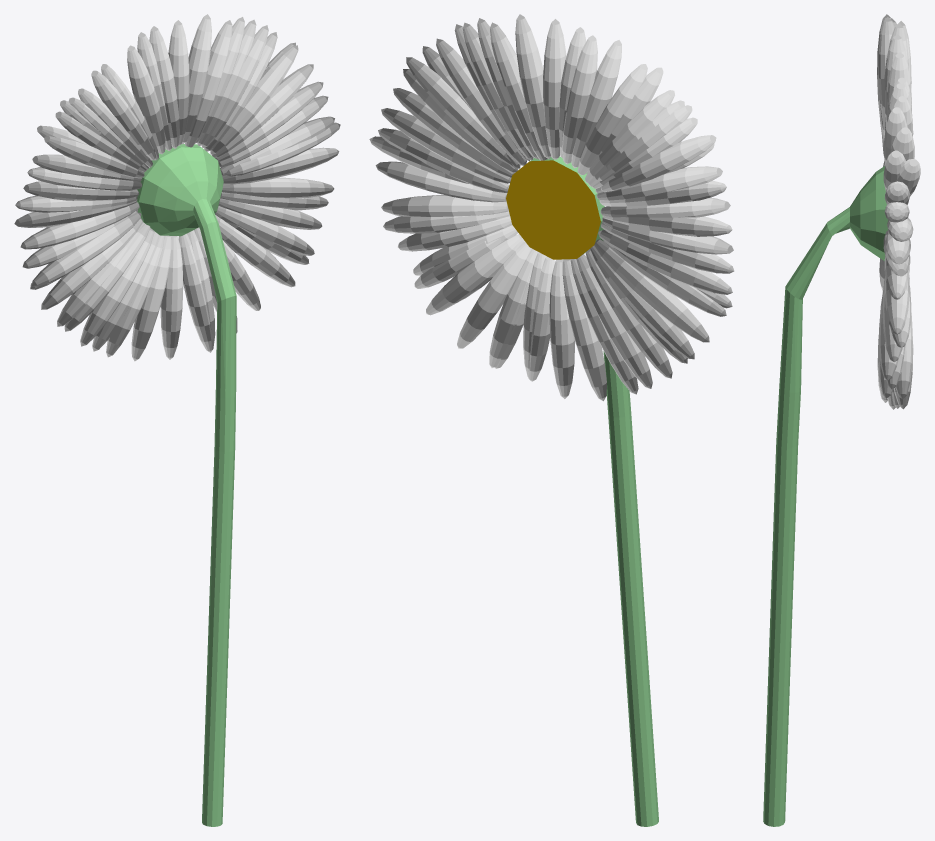
File: Dandelion.fbx
The picture shows the model from 3 angles, left to right: view 1: azimuth 30°, elevation 25°; view 2: azimuth 150°, elevation 25°; view 3: azimuth 270°, elevation 25°; orthographic projection. The views are drawn at different scales.
Visible parts, largest first — view 1: group87009174, group1492424143, group603342654, group1881477513, group718239893, group1734027403, group2064019557, group335765809, group128159101, group2060080001, group1807135897, group1741196456 (+37 smaller); view 2: group87009174, group1741196456, group2064019557, group718239893, group501607210, group1492424143, group1375157183, group420555038, group249798635, group1475190322, group1570968163, group814486344 (+39 smaller); view 3: group87009174, group1850751425, group1734027403, group249798635, group359668603, group2064019557, group325663288, group1811837873, group501607210, group1475190322, group1092918683, group603342654 (+11 smaller).
Part boxes in pixels (x1=…): group87009174: x1=137, y1=144, x2=236, y2=826; group1492424143: x1=160, y1=236, x2=183, y2=359; group603342654: x1=210, y1=45, x2=298, y2=154; group1881477513: x1=31, y1=212, x2=141, y2=286; group718239893: x1=131, y1=235, x2=171, y2=361; group1734027403: x1=127, y1=45, x2=165, y2=154; group2064019557: x1=182, y1=14, x2=211, y2=144; group335765809: x1=178, y1=233, x2=213, y2=352; group128159101: x1=20, y1=202, x2=139, y2=249; group2060080001: x1=80, y1=228, x2=154, y2=346; group1807135897: x1=185, y1=20, x2=232, y2=147; group1741196456: x1=41, y1=218, x2=142, y2=309; group87009174: x1=506, y1=156, x2=658, y2=826; group1741196456: x1=594, y1=239, x2=709, y2=342; group2064019557: x1=515, y1=14, x2=550, y2=159; group718239893: x1=562, y1=259, x2=606, y2=401; group501607210: x1=406, y1=57, x2=512, y2=166; group1492424143: x1=549, y1=259, x2=574, y2=398; group1375157183: x1=576, y1=254, x2=652, y2=388; group420555038: x1=457, y1=242, x2=531, y2=348; group249798635: x1=426, y1=234, x2=521, y2=315; group1475190322: x1=543, y1=19, x2=566, y2=159; group1570968163: x1=436, y1=38, x2=526, y2=165; group814486344: x1=562, y1=35, x2=597, y2=164; group87009174: x1=763, y1=166, x2=888, y2=826; group1850751425: x1=884, y1=275, x2=909, y2=334; group1734027403: x1=879, y1=17, x2=894, y2=125; group249798635: x1=895, y1=313, x2=912, y2=399; group359668603: x1=884, y1=107, x2=907, y2=165; group2064019557: x1=887, y1=52, x2=911, y2=122; group325663288: x1=879, y1=286, x2=898, y2=380; group1811837873: x1=884, y1=256, x2=909, y2=299; group501607210: x1=896, y1=159, x2=920, y2=196; group1475190322: x1=885, y1=34, x2=908, y2=126; group1092918683: x1=885, y1=231, x2=910, y2=264; group603342654: x1=883, y1=150, x2=905, y2=190.
Bounding box in the file's own units: 188 × 417 × 74.31.
